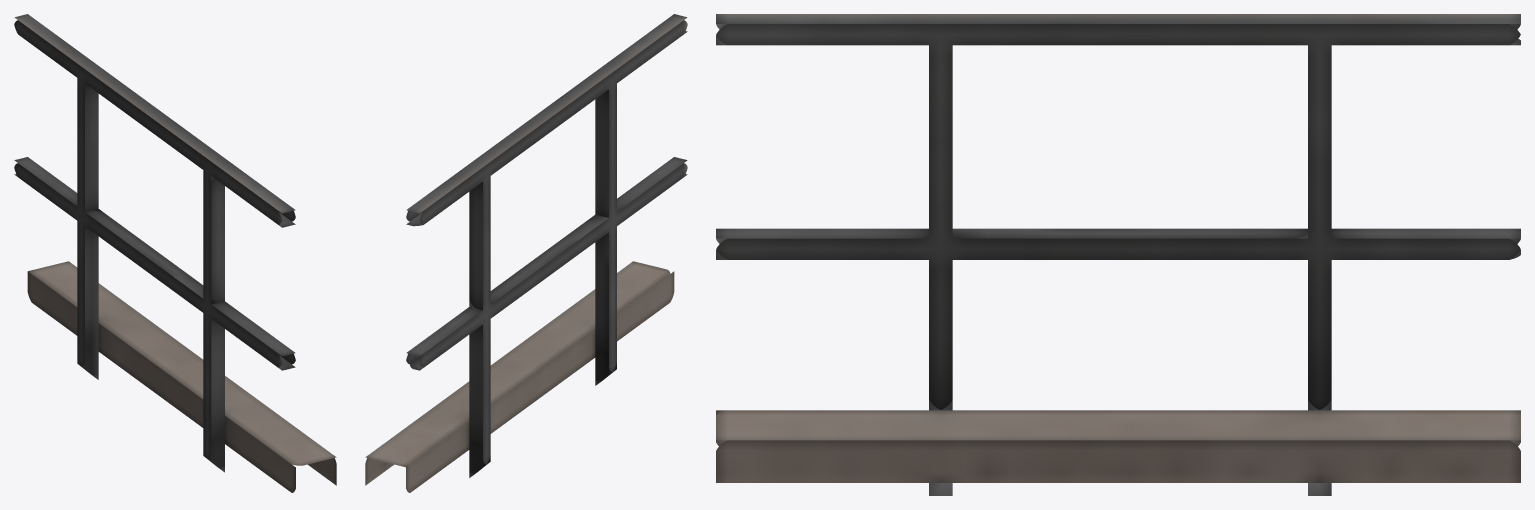
The model's file is evacuate_walkway_railing.obj.
The picture shows the model from 3 angles, left to right: view 1: azimuth 30°, elevation 25°; view 2: azimuth 150°, elevation 25°; view 3: azimuth 270°, elevation 25°; orthographic projection. The views are drawn at different scales.
Visible parts, largest first — view 1: evacuate_walkway_railing; view 2: evacuate_walkway_railing; view 3: evacuate_walkway_railing.
Part boxes in pixels (x1,y1,x2,y2): evacuate_walkway_railing: (14, 14, 336, 492); evacuate_walkway_railing: (365, 14, 687, 492); evacuate_walkway_railing: (716, 14, 1520, 495).
Bounding box in the file's own units: 0.125 × 0.6875 × 1.06.
2 materials, 2 textured.
